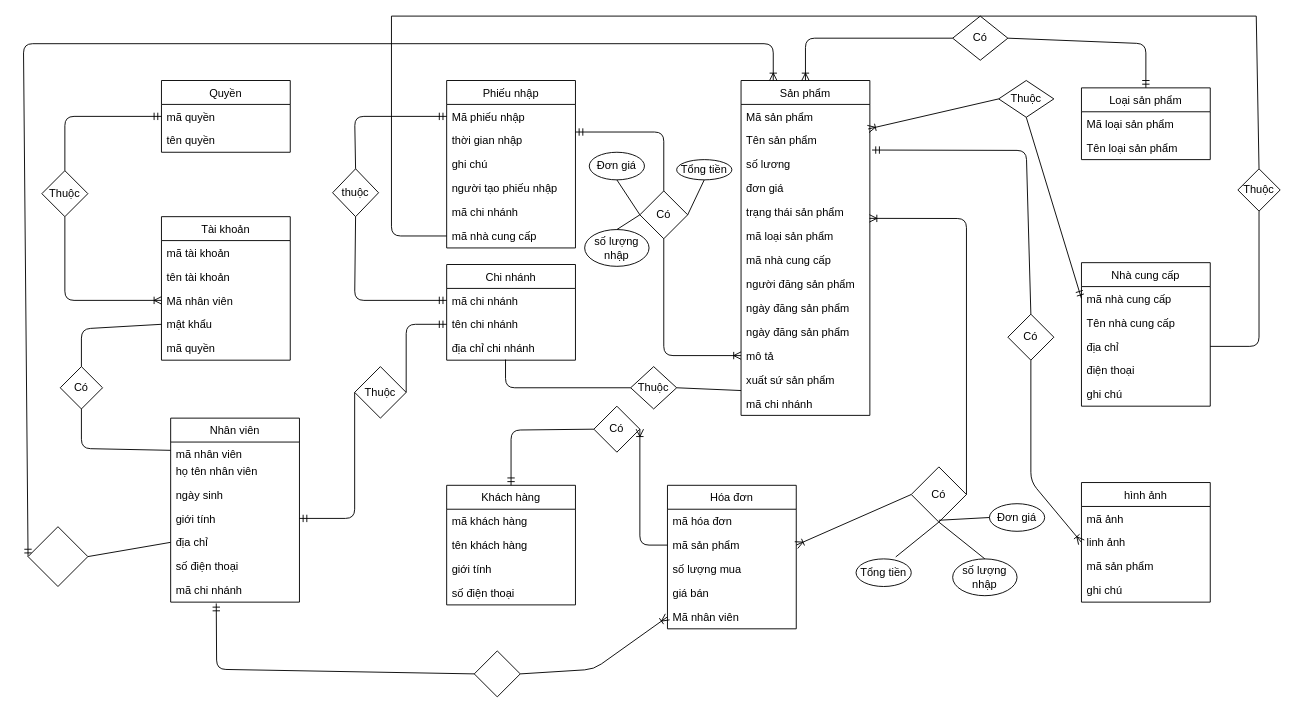
The diagram is 1296 pixels wide and 713 high, and some of its shapes have lost their labels. Each missing label, with the centre of its shape:
"Lập" belongs at [496,673].
"Tạo" belongs at [57,556].
